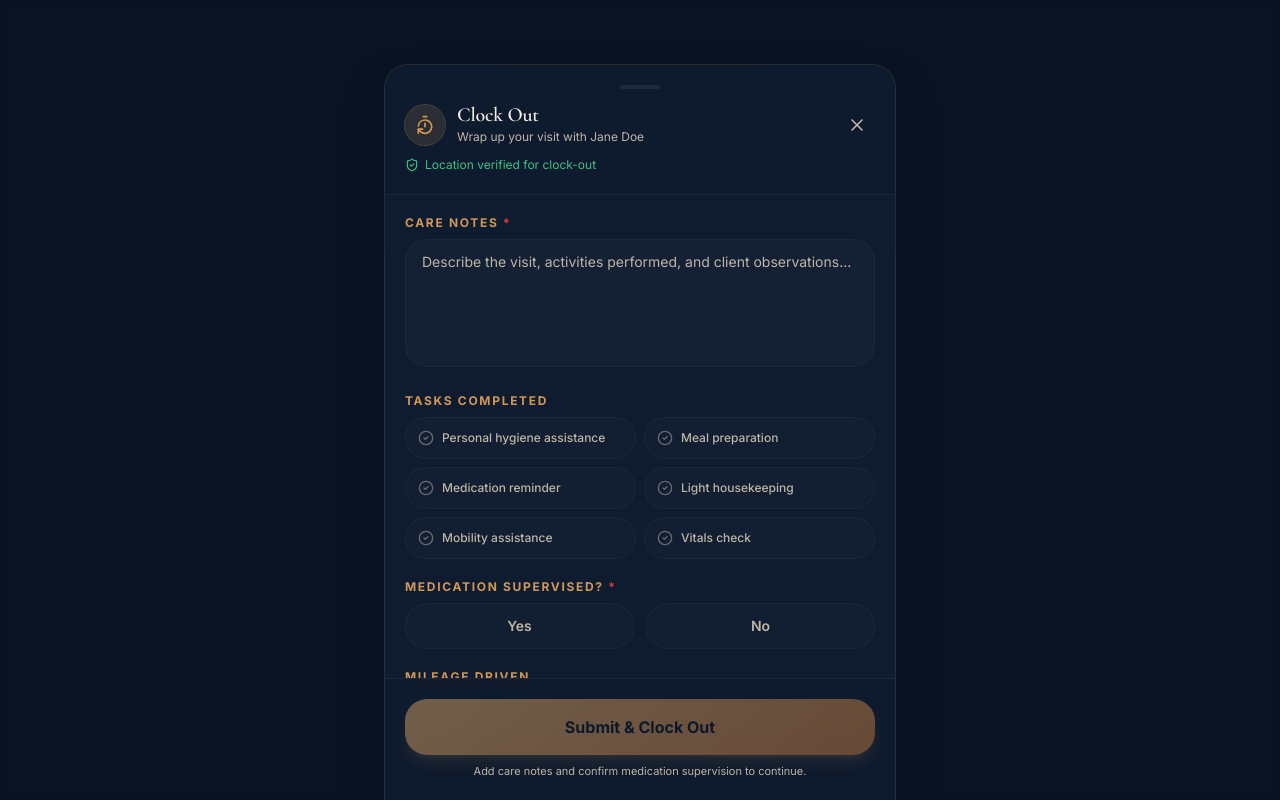
Test case: ClockOutForm validation › requires care notes and medication-supervised answer before submit
The image size is (1280, 800).
Later steps or results of the test are not shown.
Expected: the button "Submit & Clock Out" is disabled, [405,700,875,756]
// Filling notes alone is still not enough
Replace the text in the text box with placeholder "Describe the visit" with "Patient was comfortable, vitals normal." at {"x": 640, "y": 303}, box [405,239,875,367]
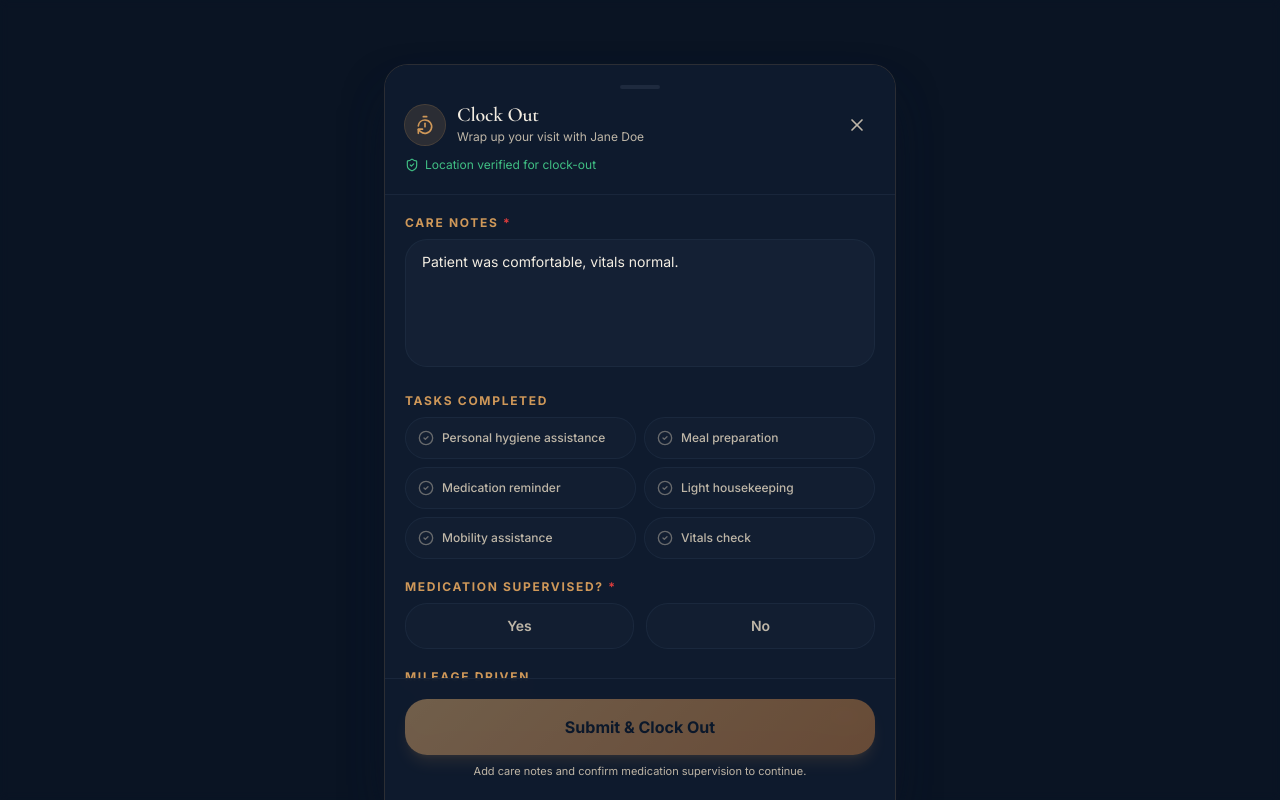
Expected: the button "Submit & Clock Out" is disabled, [405,700,875,756]
// Answer medication question
Click the button "Yes".
click(520, 626)  # box [405,603,634,649]
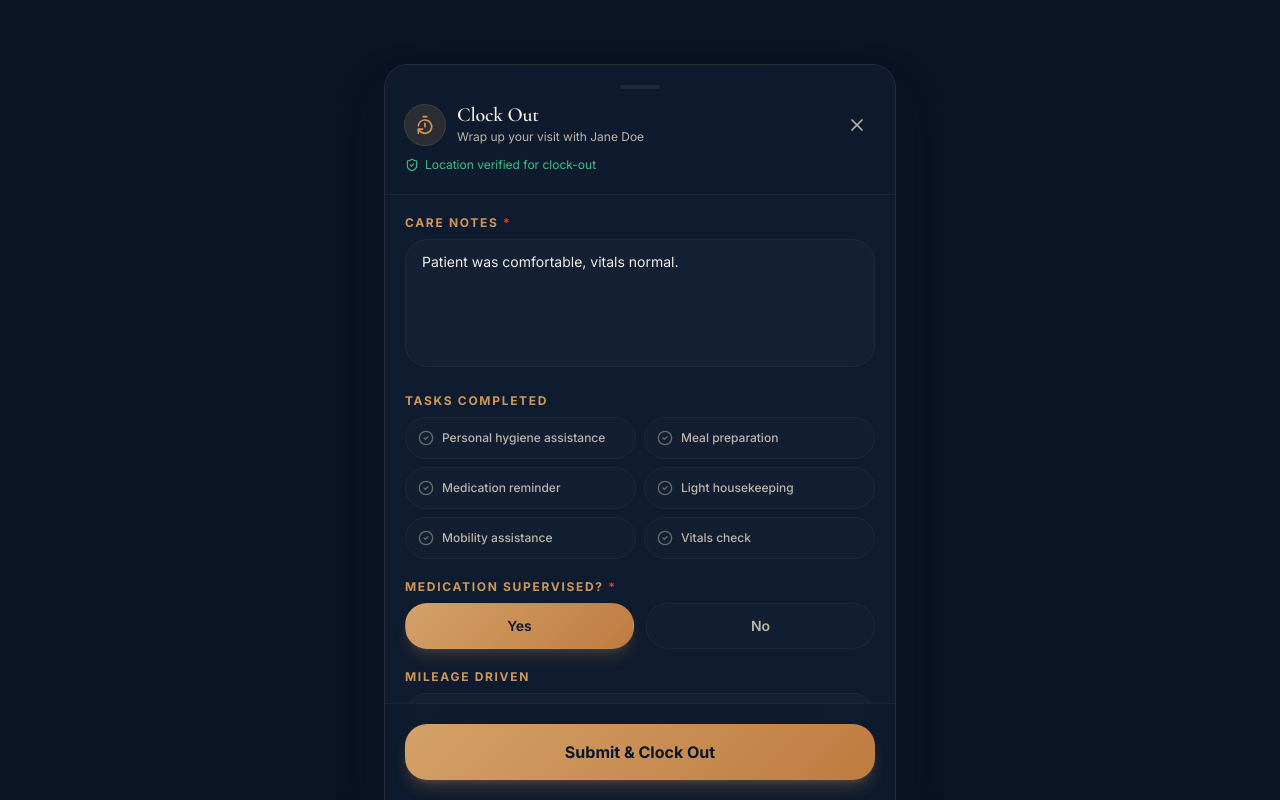
Expected: the button "Submit & Clock Out" is enabled, [405,724,875,780]
